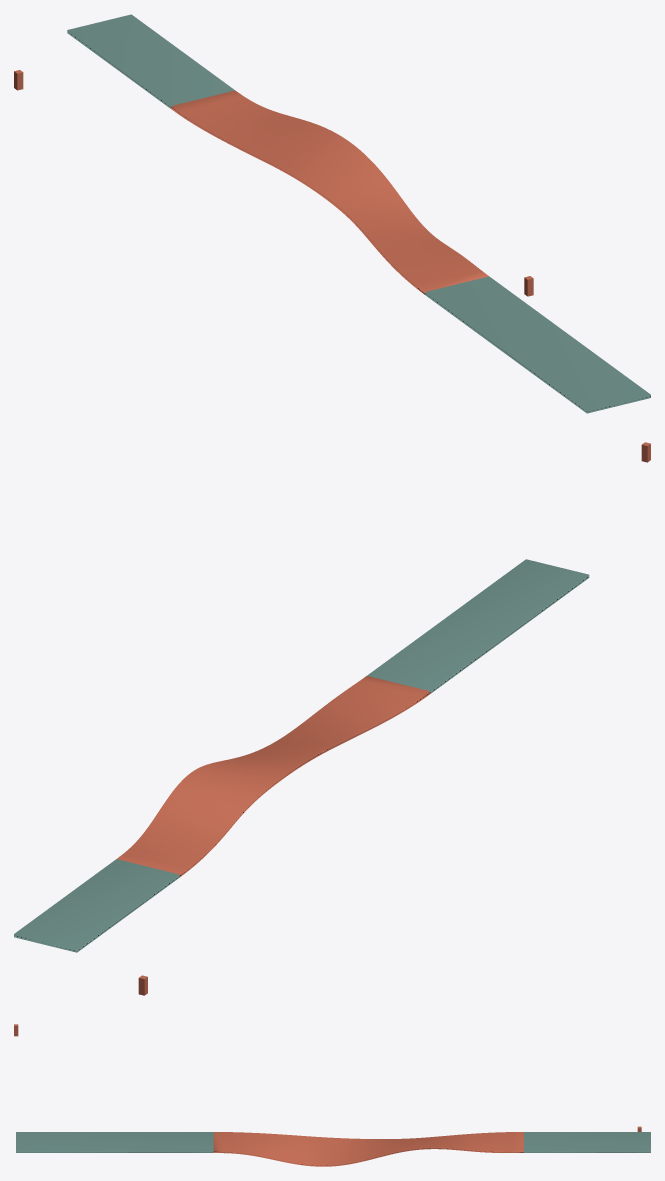
Rendered from ribbon-bridge-8131-cruise.glb.
The picture shows the model from 3 angles, top to bottom: view 1: azimuth 30°, elevation 25°; view 2: azimuth 150°, elevation 25°; view 3: azimuth 270°, elevation 25°; orthographic projection. The views are drawn at different scales.
Parts seen in each view (by area): view 1: study-deck-render, runout-deck-render, approach-deck-render; view 2: study-deck-render, runout-deck-render, approach-deck-render; view 3: study-deck-render, runout-deck-render, approach-deck-render.
Boxes of the visible parts, bbox=[...] form: study-deck-render: bbox=[171, 90, 488, 294]; runout-deck-render: bbox=[425, 276, 650, 413]; approach-deck-render: bbox=[67, 14, 234, 108]; study-deck-render: bbox=[117, 676, 429, 877]; runout-deck-render: bbox=[367, 559, 589, 693]; approach-deck-render: bbox=[14, 859, 179, 952]; study-deck-render: bbox=[213, 1132, 523, 1166]; runout-deck-render: bbox=[16, 1132, 213, 1152]; approach-deck-render: bbox=[524, 1132, 650, 1152].
Size of what is drawn, in the model's own units: 74.4 by 88 by 452.
